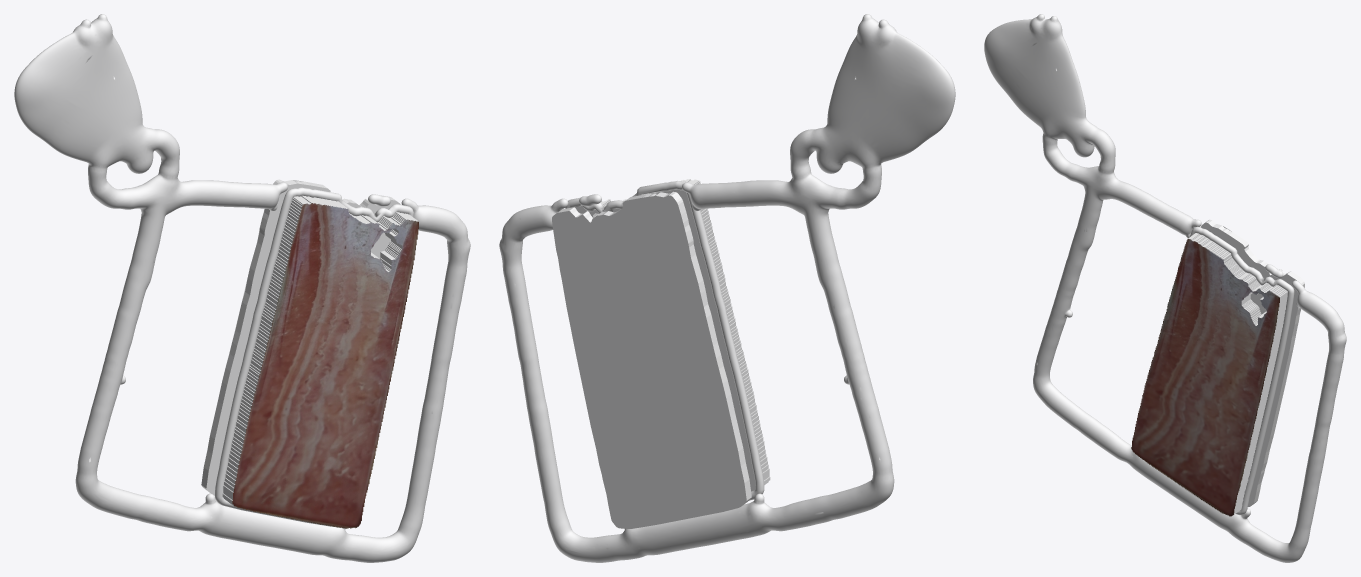
3 renders of one model, left to right at view 1: azimuth 30°, elevation 25°; view 2: azimuth 150°, elevation 25°; view 3: azimuth 330°, elevation 25°, orthographic. The views are drawn at different scales.
Parts seen in each view (by area): view 1: joya; view 2: joya; view 3: joya.
Boxes of the visible parts, left/top/right/bottom form: joya: left=14, top=14, right=470, bottom=562; joya: left=499, top=14, right=955, bottom=562; joya: left=984, top=14, right=1346, bottom=562.
Bounding box in the file's own units: 0.0313 × 0.0406 × 0.00325.
Materials: 3 (1 with a texture image).
